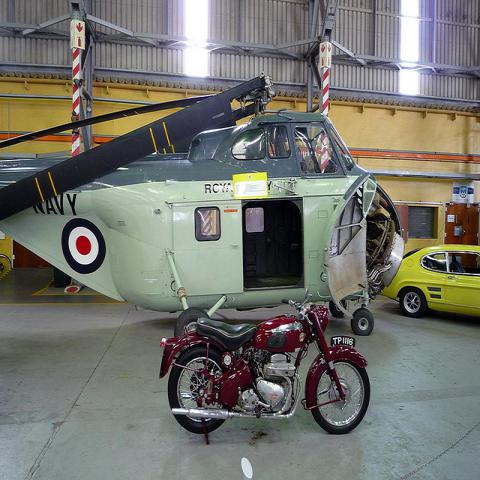car: (382, 246, 479, 323)
motorcycle: (159, 284, 371, 446)
